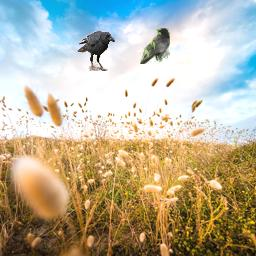Crow: (77, 31, 115, 71), (140, 28, 170, 64)
